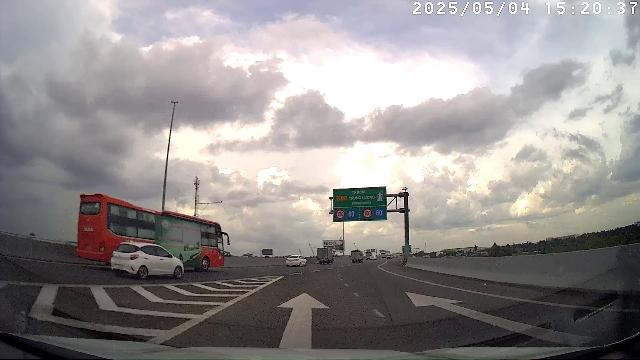127-toc-do-toi-da-100: (336, 209, 346, 219), (363, 208, 373, 218)
306-toc-do-toi-thieu-60: (374, 208, 386, 218), (347, 209, 357, 219)
437-bat-dau-duong-cao-toc: (376, 190, 384, 202)
